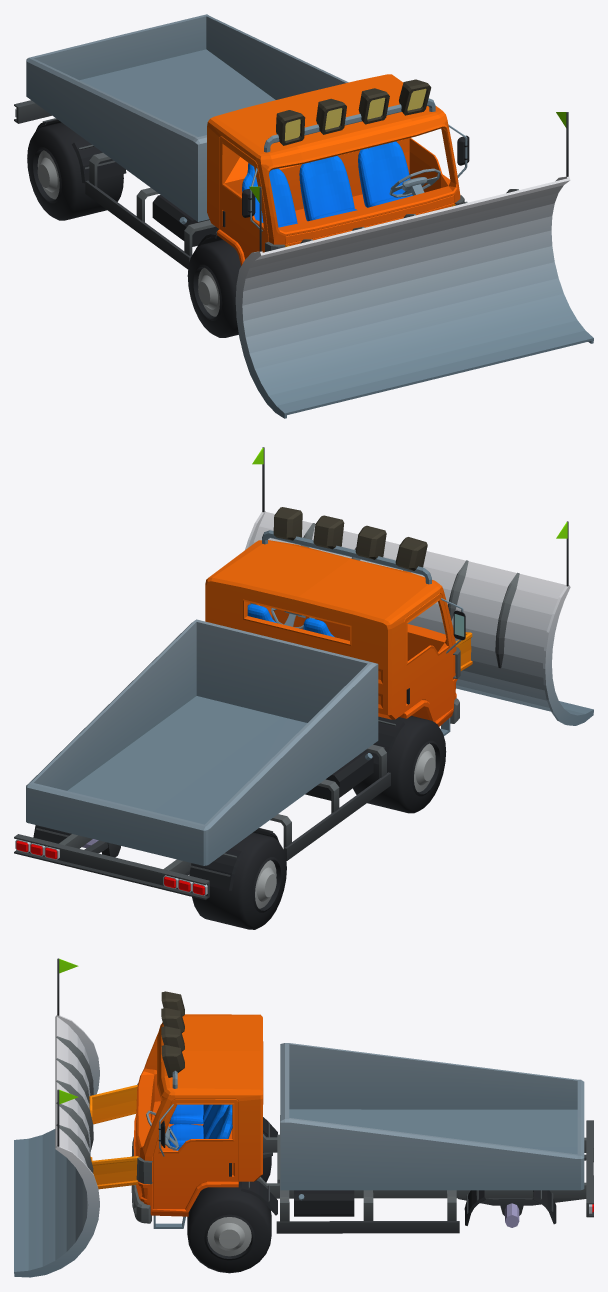
Rendered from Shoveler_Car2.fbx.
3 views of the same model, one above another, from view 1: azimuth 30°, elevation 25°; view 2: azimuth 150°, elevation 25°; view 3: azimuth 270°, elevation 25° (orthographic). The views are drawn at different scales.
Visible parts, largest first — view 1: Car.003, Shoveler.003, Wheel.010, Wheel; view 2: Car.003, Shoveler.003, Wheel.010, Wheel; view 3: Car.003, Shoveler.003, Wheel.011.
Boxes of the visible parts, x1,y1,x2,y2 form: Car.003: (14,14,469,269); Shoveler.003: (235,112,593,418); Wheel.010: (27,122,123,220); Wheel: (187,239,240,337); Car.003: (14,507,472,899); Shoveler.003: (245,447,593,725); Wheel.010: (192,832,286,929); Wheel: (353,715,446,813); Car.003: (89,991,593,1233); Shoveler.003: (14,958,99,1277); Wheel.011: (187,1181,271,1273).
Bounding box in the file's own units: 580 × 425 × 1076.
